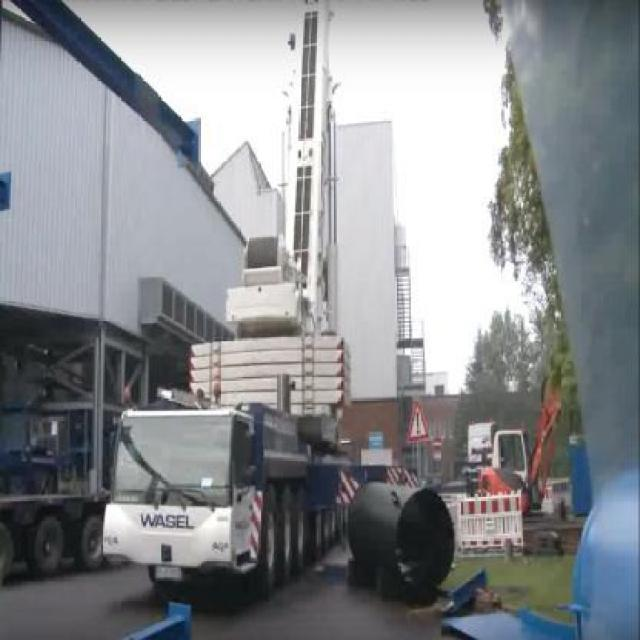Mobile Crane: (101, 0, 354, 591)
